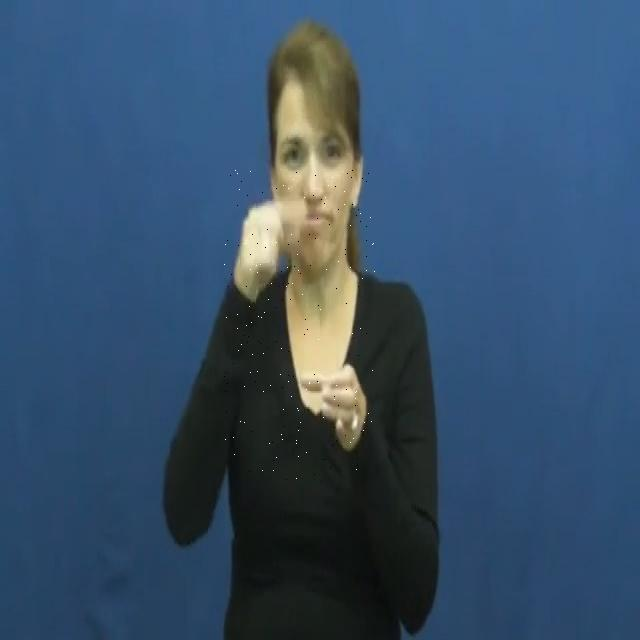straw: (225, 168, 376, 482)
